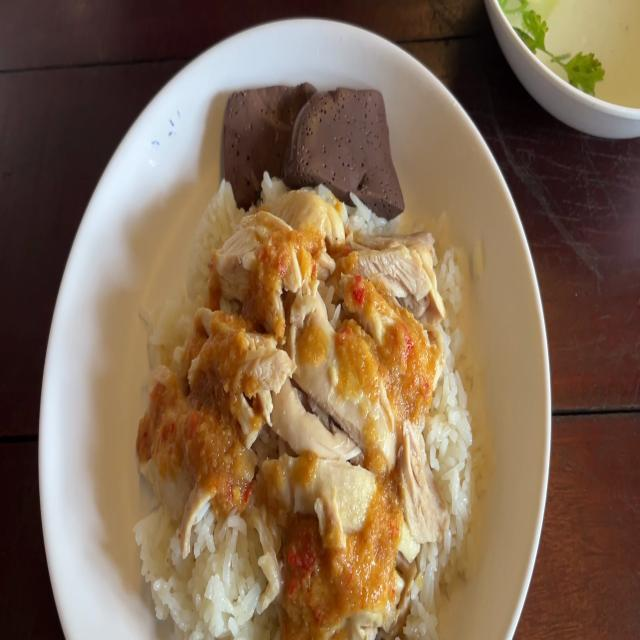boiled_chicken: (182, 230, 406, 582)
boiled_chicken_blood_jelly: (297, 74, 399, 210), (221, 68, 313, 202)
chicken_rice: (138, 92, 498, 640)
